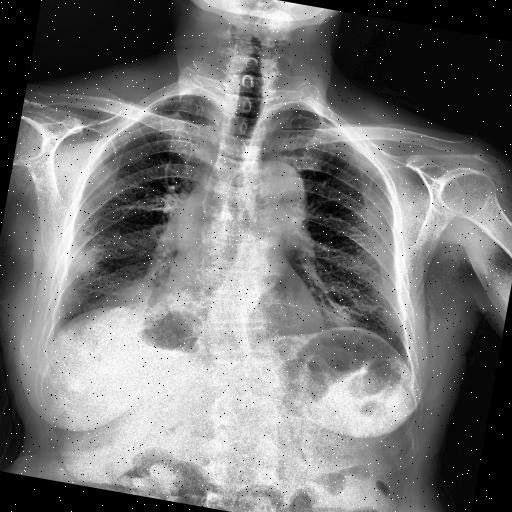0- Aortic enlargement: (170, 146, 308, 266), (238, 156, 312, 226), (244, 156, 314, 226)
7- Lung Opacity: (69, 238, 167, 316)
9- Other lesion: (128, 296, 210, 364)
